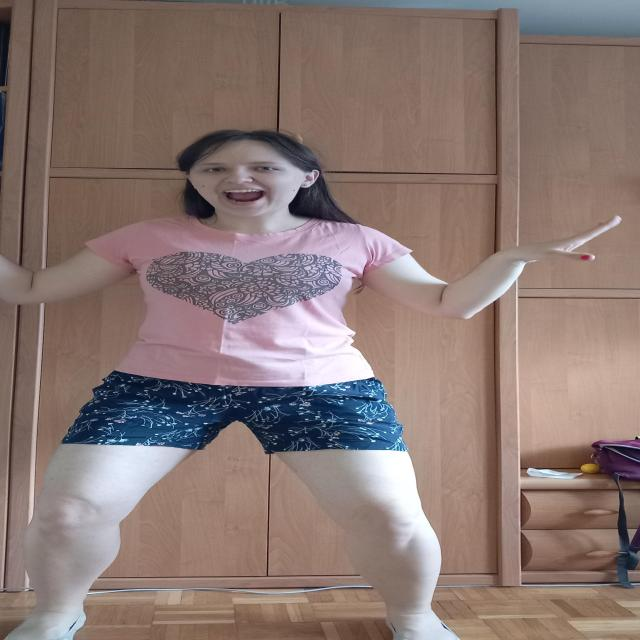Tshirt: (83, 218, 413, 388)
short: (61, 371, 410, 454)
